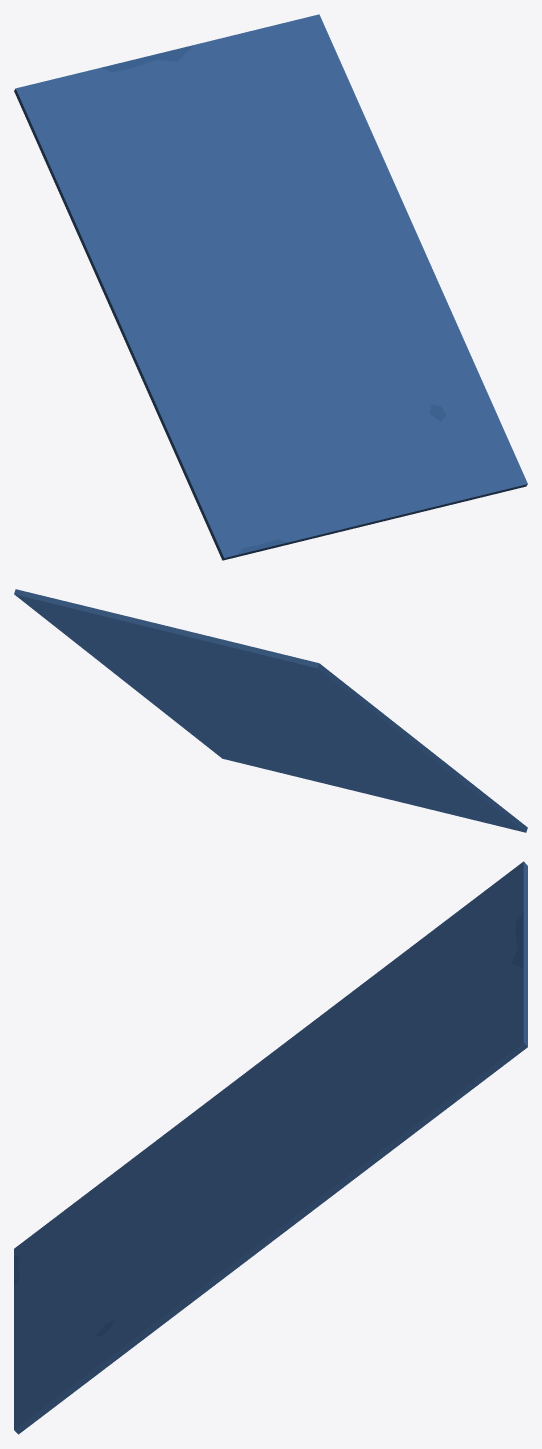
The model's file is Roof_04_2.fbx.
The picture shows the model from 3 angles, top to bottom: view 1: azimuth 30°, elevation 25°; view 2: azimuth 150°, elevation 25°; view 3: azimuth 270°, elevation 25°; orthographic projection. The views are drawn at different scales.
Parts seen in each view (by area): view 1: Roof_04_2_LOD0; view 2: Roof_04_2_LOD0; view 3: Roof_04_2_LOD0.
Part boxes in pixels (left/top/right/bottom): Roof_04_2_LOD0: left=14, top=14, right=527, bottom=560; Roof_04_2_LOD0: left=14, top=589, right=527, bottom=832; Roof_04_2_LOD0: left=14, top=861, right=527, bottom=1434.
Size of what is drawn, in the model's own units: 500 by 505 by 600.
